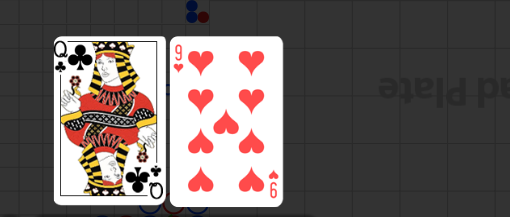9H: (267, 168, 279, 199)
QC: (55, 36, 99, 83), (122, 157, 166, 203)
